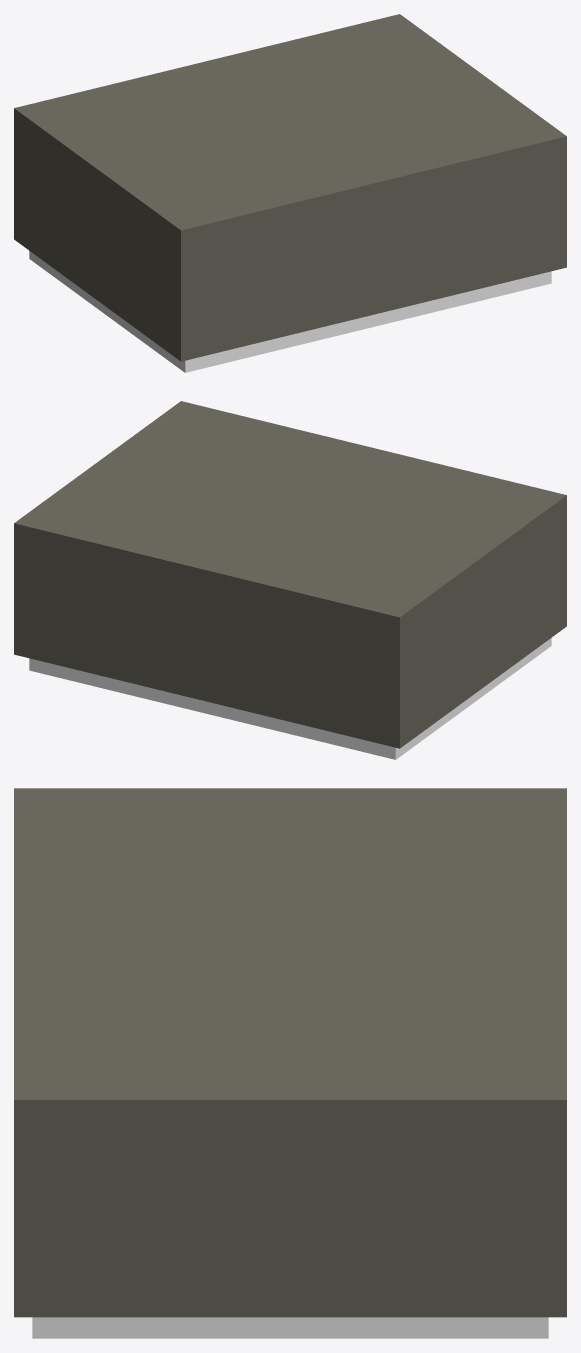
Rendered from room.gltf.
The picture shows the model from 3 angles, top to bottom: view 1: azimuth 30°, elevation 25°; view 2: azimuth 150°, elevation 25°; view 3: azimuth 270°, elevation 25°; orthographic projection. The views are drawn at different scales.
Parts seen in each view (by area): view 1: top, bottom; view 2: top, bottom; view 3: top, bottom.
Part boxes in pixels (<box>): top: <box>14,14,566,361</box>; bottom: <box>29,251,551,372</box>; top: <box>14,401,566,748</box>; bottom: <box>29,638,551,759</box>; top: <box>14,788,566,1317</box>; bottom: <box>32,1317,548,1338</box>.
Bounding box in the file's own units: 0.8 × 0.295 × 0.6.
Materials: 2 (2 with a texture image).
